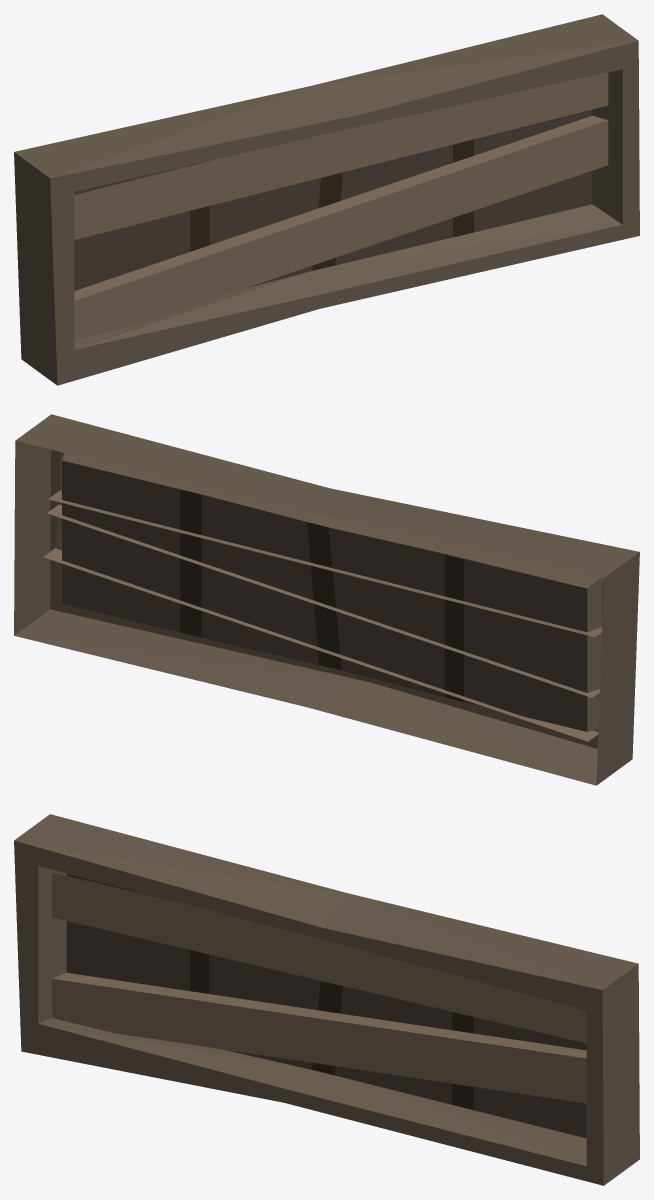
Rendered from SM_Prop_Shanty_BuildingAttachment_01.glb.
3 renders of one model, top to bottom at view 1: azimuth 30°, elevation 25°; view 2: azimuth 150°, elevation 25°; view 3: azimuth 330°, elevation 25°, orthographic.
Parts seen in each view (by area): view 1: SM_Prop_Shanty_BuildingAttachment_01_part00; view 2: SM_Prop_Shanty_BuildingAttachment_01_part00; view 3: SM_Prop_Shanty_BuildingAttachment_01_part00.
Part boxes in pixels (bbox=[...]): SM_Prop_Shanty_BuildingAttachment_01_part00: bbox=[14, 14, 639, 385]; SM_Prop_Shanty_BuildingAttachment_01_part00: bbox=[14, 414, 639, 785]; SM_Prop_Shanty_BuildingAttachment_01_part00: bbox=[14, 814, 639, 1185].
Bounding box in the file's own units: 2.35 × 0.7973 × 0.2497.
Materials: 1 (1 with a texture image).
